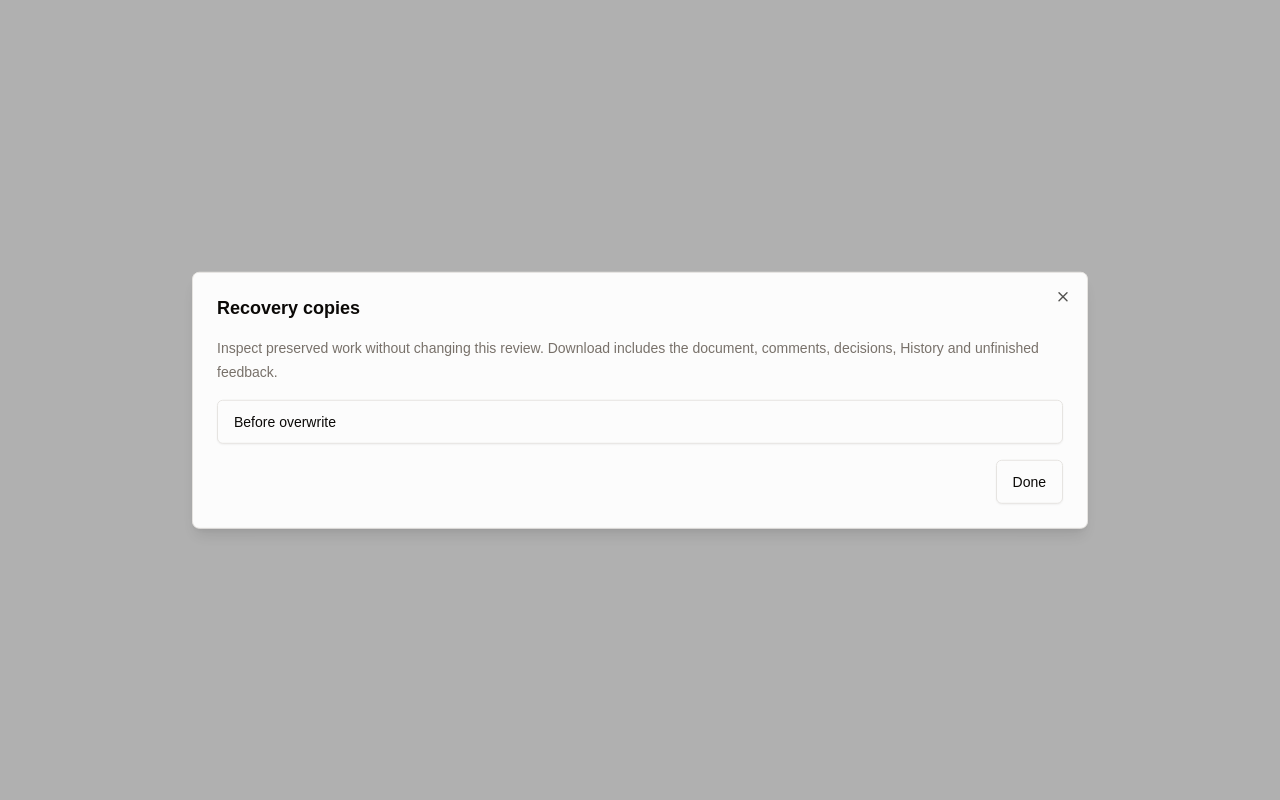
Recovery copies inspect initial and latest source without importing either into the editor
Click the button "Before overwrite": (285, 421) [217,399,1063,443]
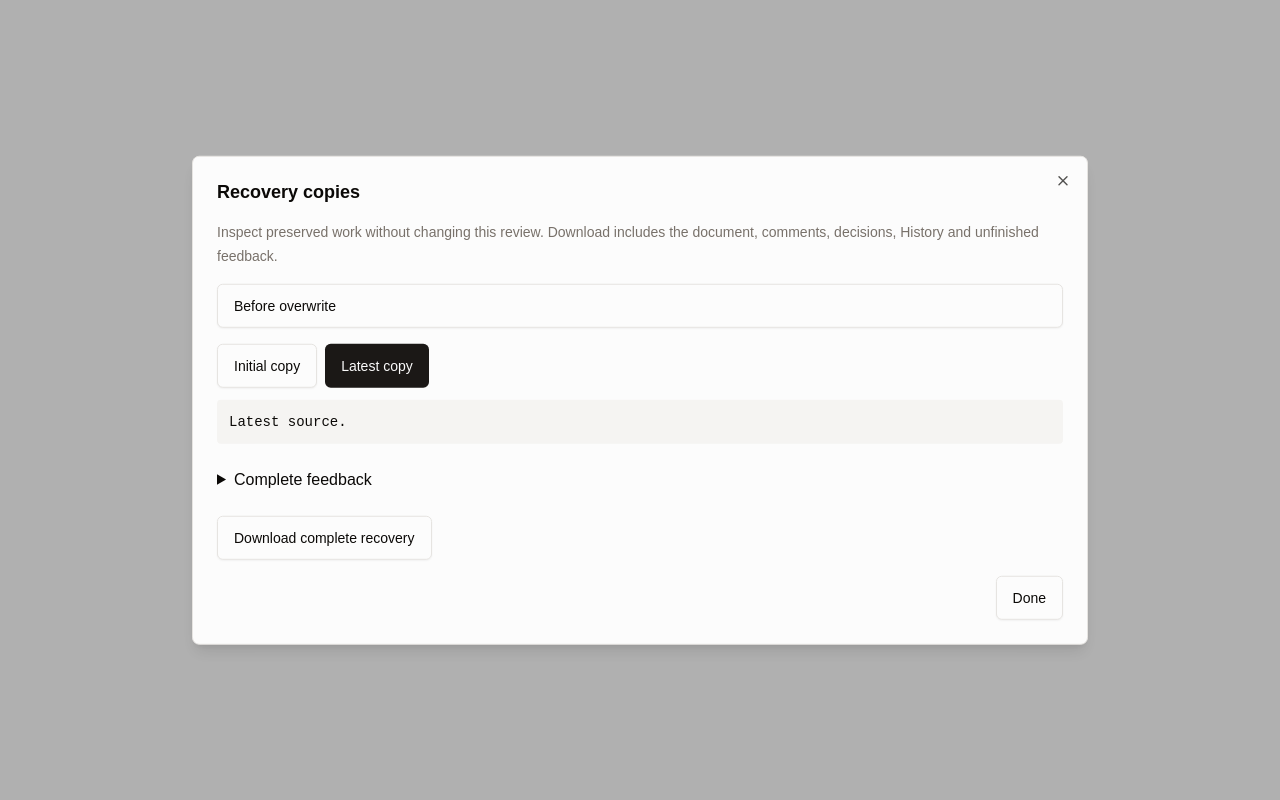
Check: the text with test id "revision-recovery-source" reads "Latest source.", box [229,413,347,429]
Click the button "Initial copy": (267, 365) [217,343,317,387]
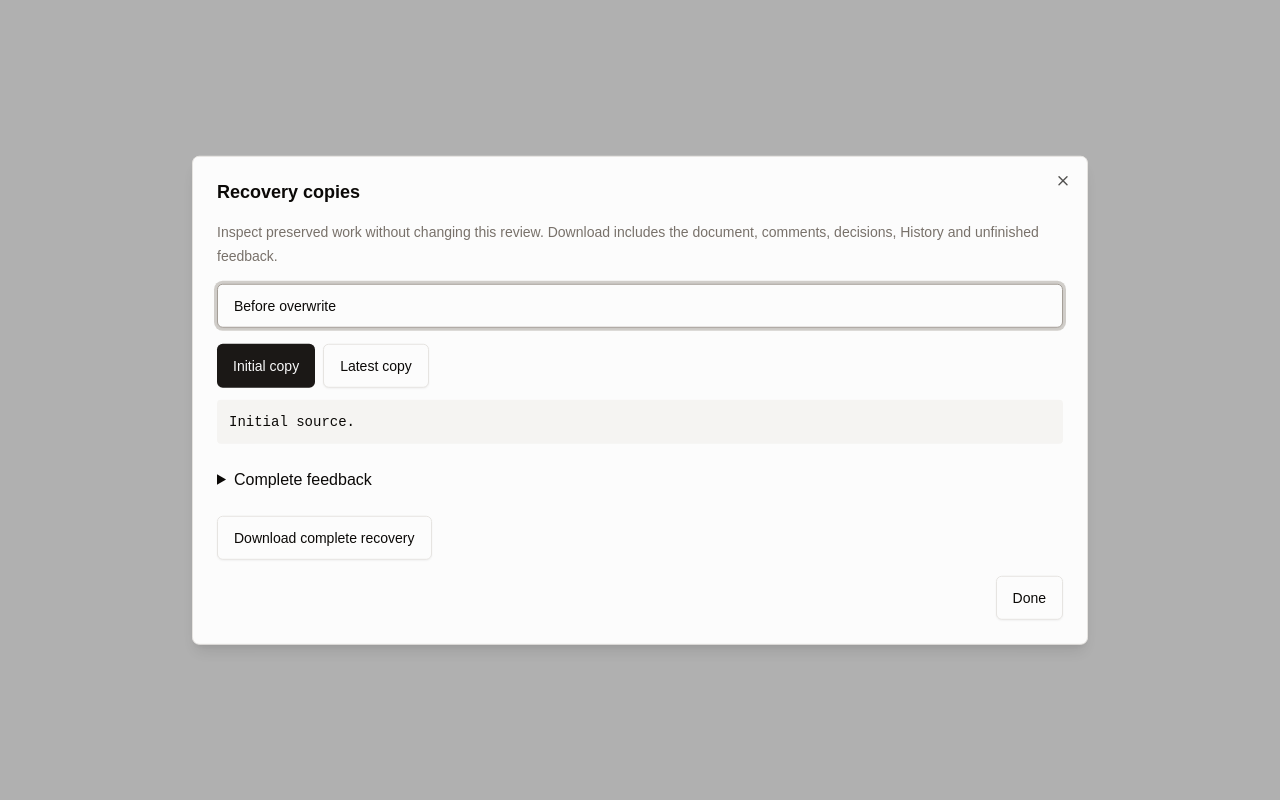
Check: the text with test id "revision-recovery-source" reads "Initial source.", box [229,413,355,429]
